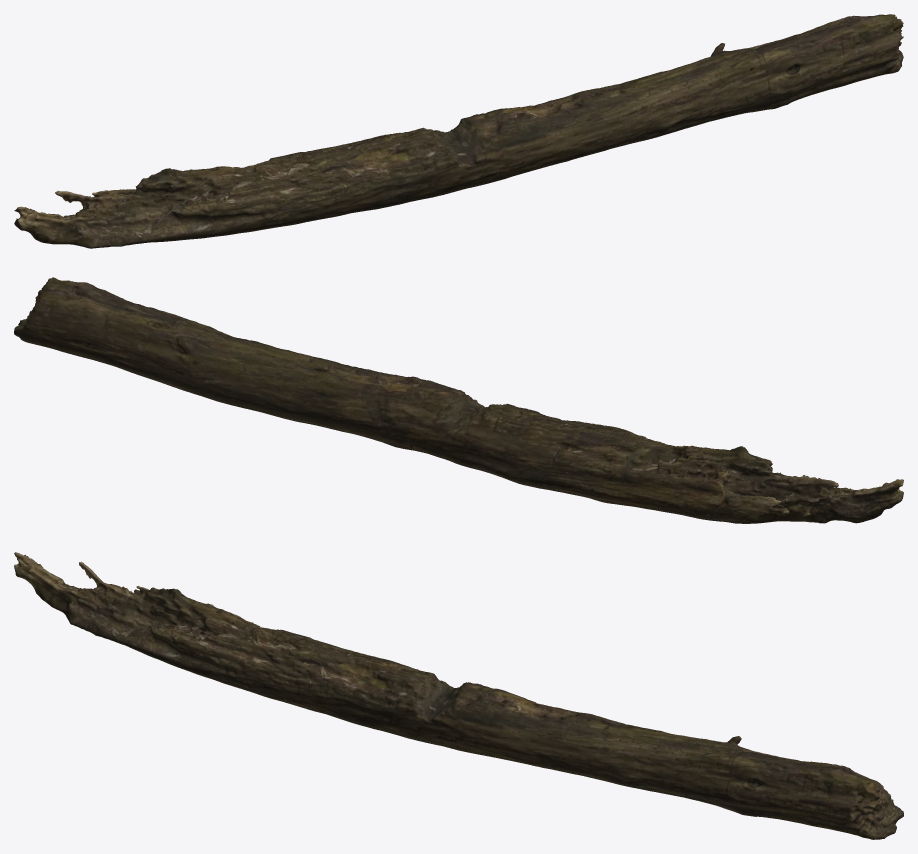
The model's file is dead_tree_trunk.glb.
3 renders of one model, top to bottom at view 1: azimuth 30°, elevation 25°; view 2: azimuth 150°, elevation 25°; view 3: azimuth 330°, elevation 25°, orthographic.
Parts seen in each view (by area): view 1: dead_tree_trunk; view 2: dead_tree_trunk; view 3: dead_tree_trunk.
Boxes of the visible parts, x1,y1,x2,y2 form: dead_tree_trunk: [14, 14, 903, 248]; dead_tree_trunk: [14, 277, 903, 523]; dead_tree_trunk: [14, 552, 903, 839].
Size of the model in its own units: 3.05 by 0.2905 by 0.2775.
1 material, 1 textured.
